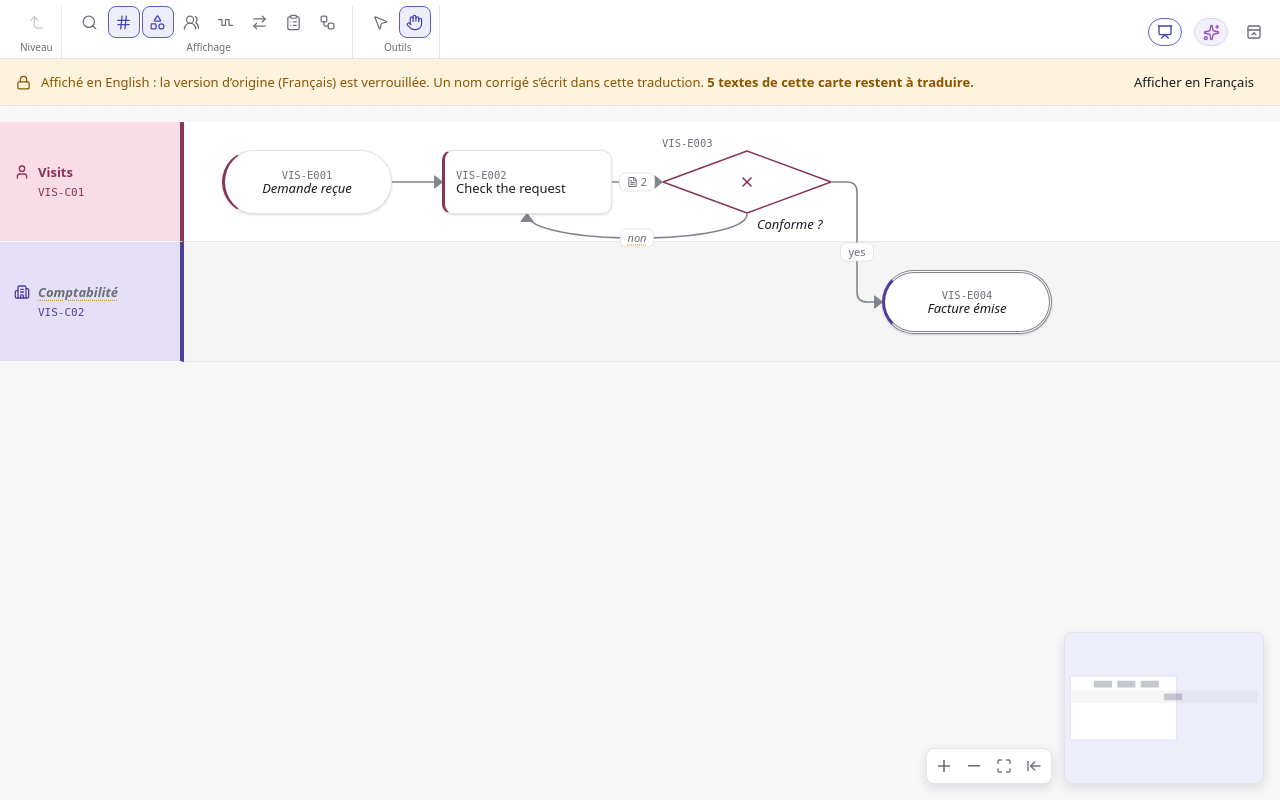
Scenario: the translation of a comment of presentation, the map shown in another language (ADR 099 revised) › says the translation, starts with it, shows the original above and writes it with its own version
Press F5
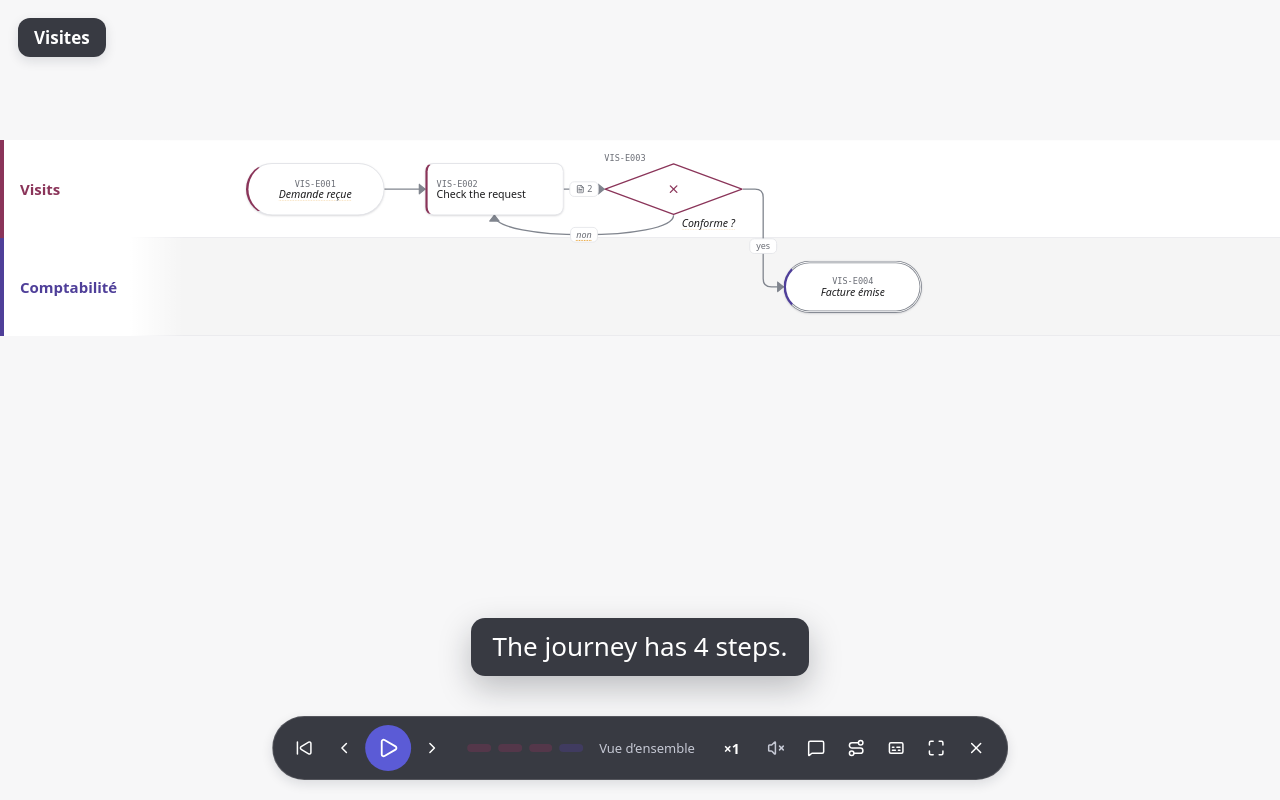
Press ArrowRight
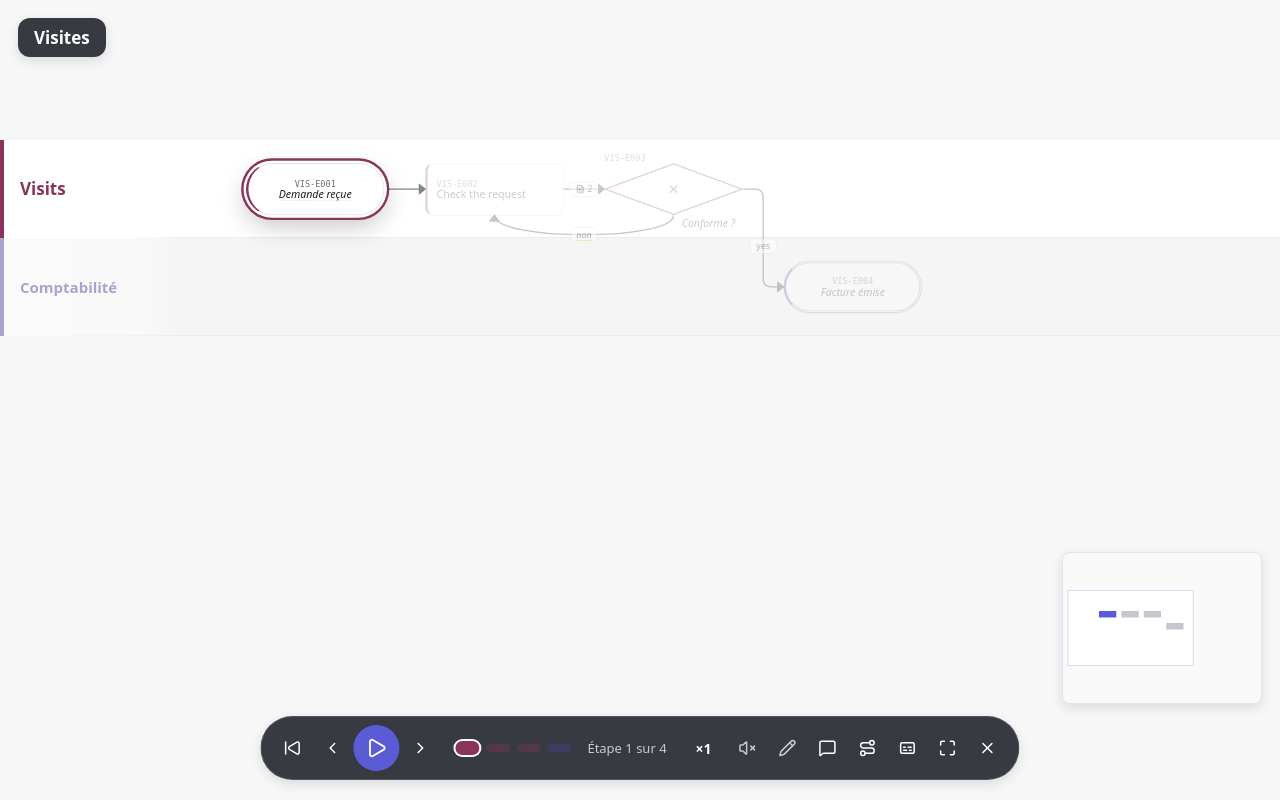
Press ArrowRight
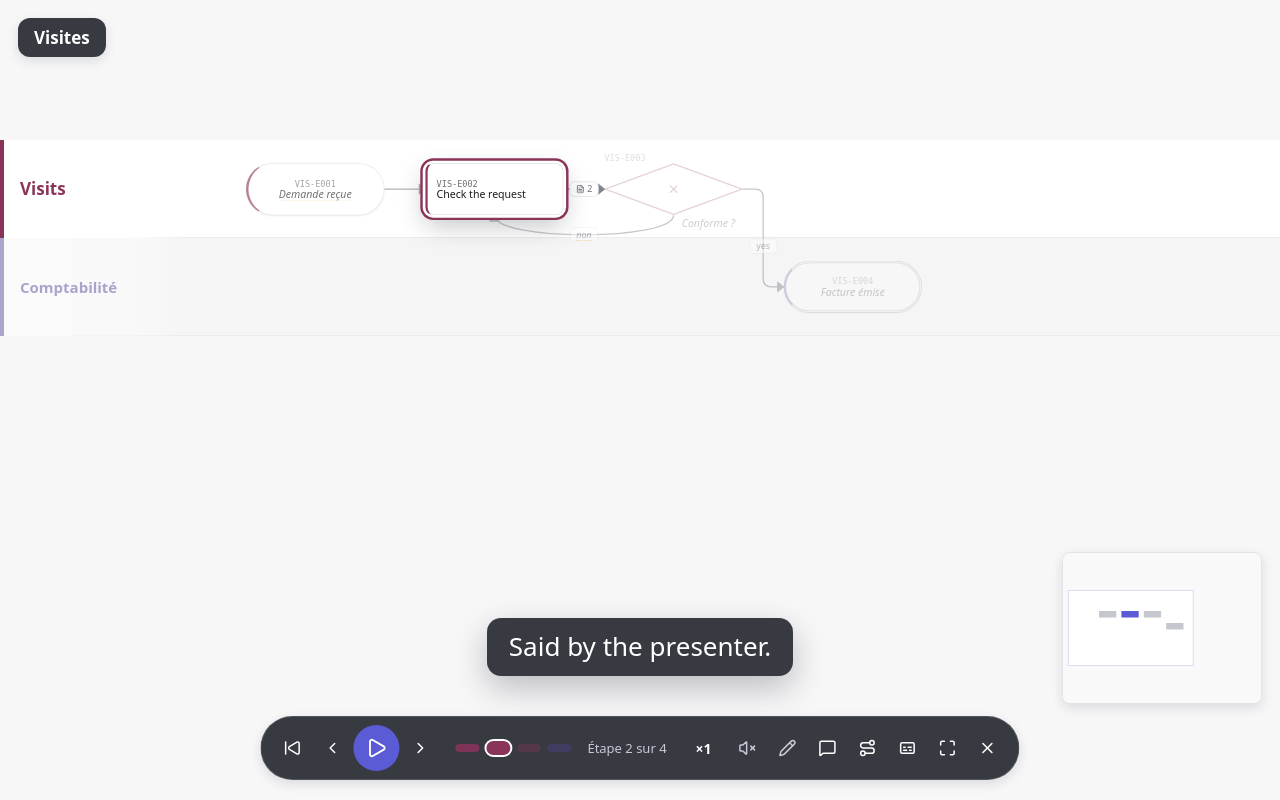
Expected: the text with test id "presenter-line" reads "Said by the presenter.", [509,628,771,664]
Press t
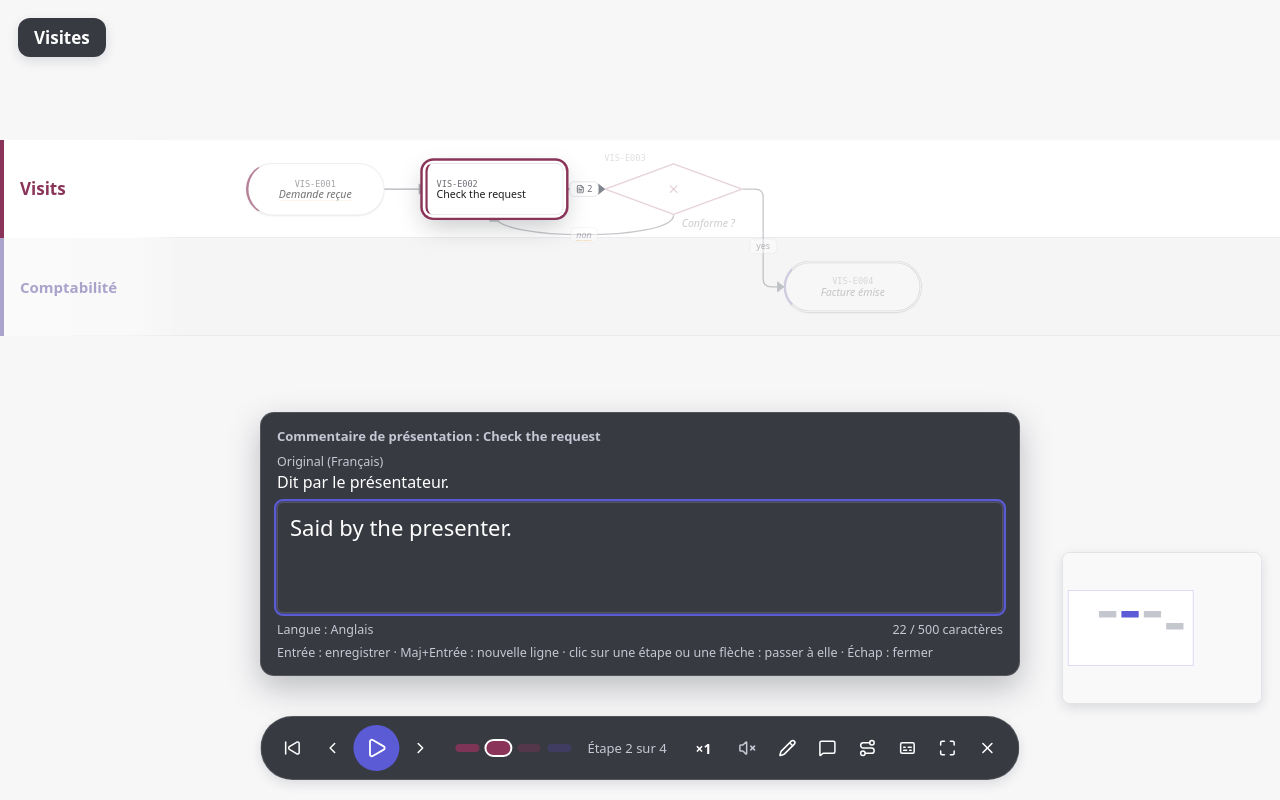
Expected: the text box with test id "presenter-comment-field" holds "Said by the presenter."
Replace the text in the text box with test id "presenter-comment-field" with "Said better by the presenter." at (640, 557), box [277,502,1003,613]
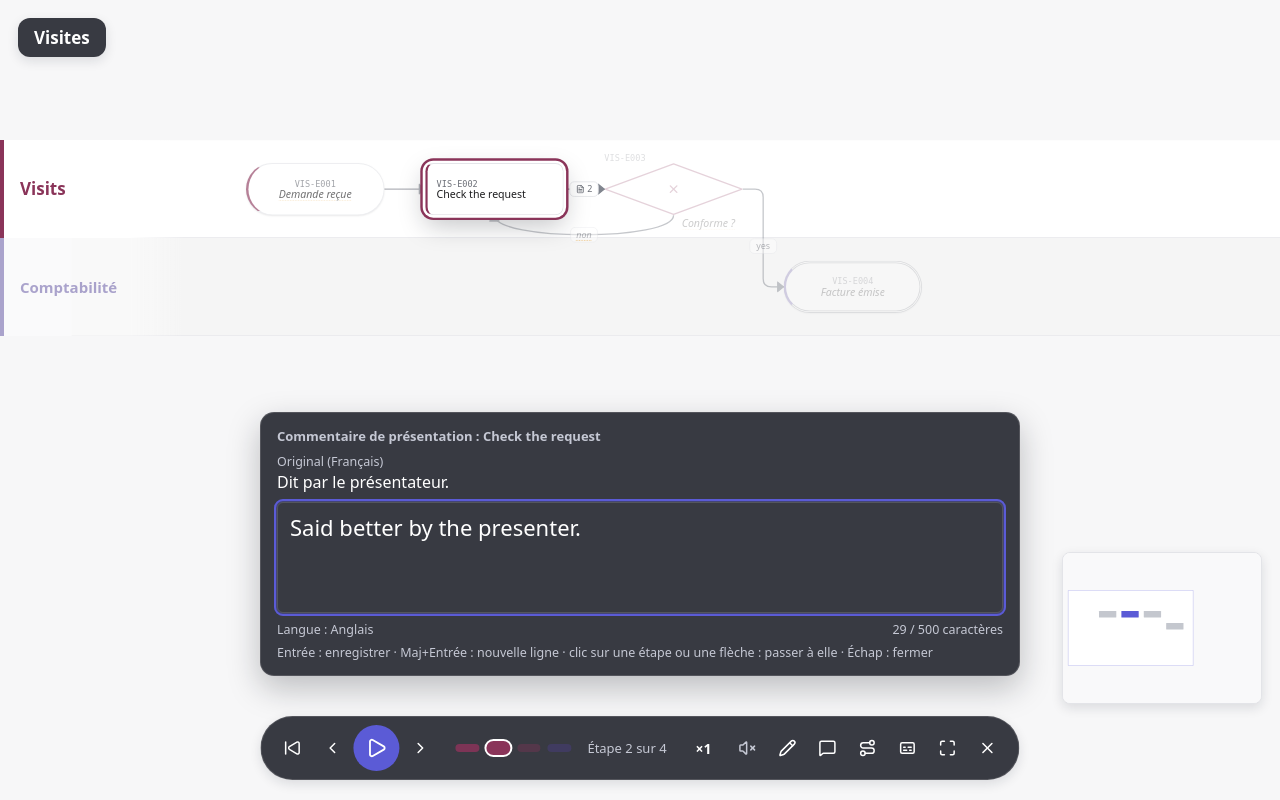
Press Enter in the text box with test id "presenter-comment-field", box [277,502,1003,613]
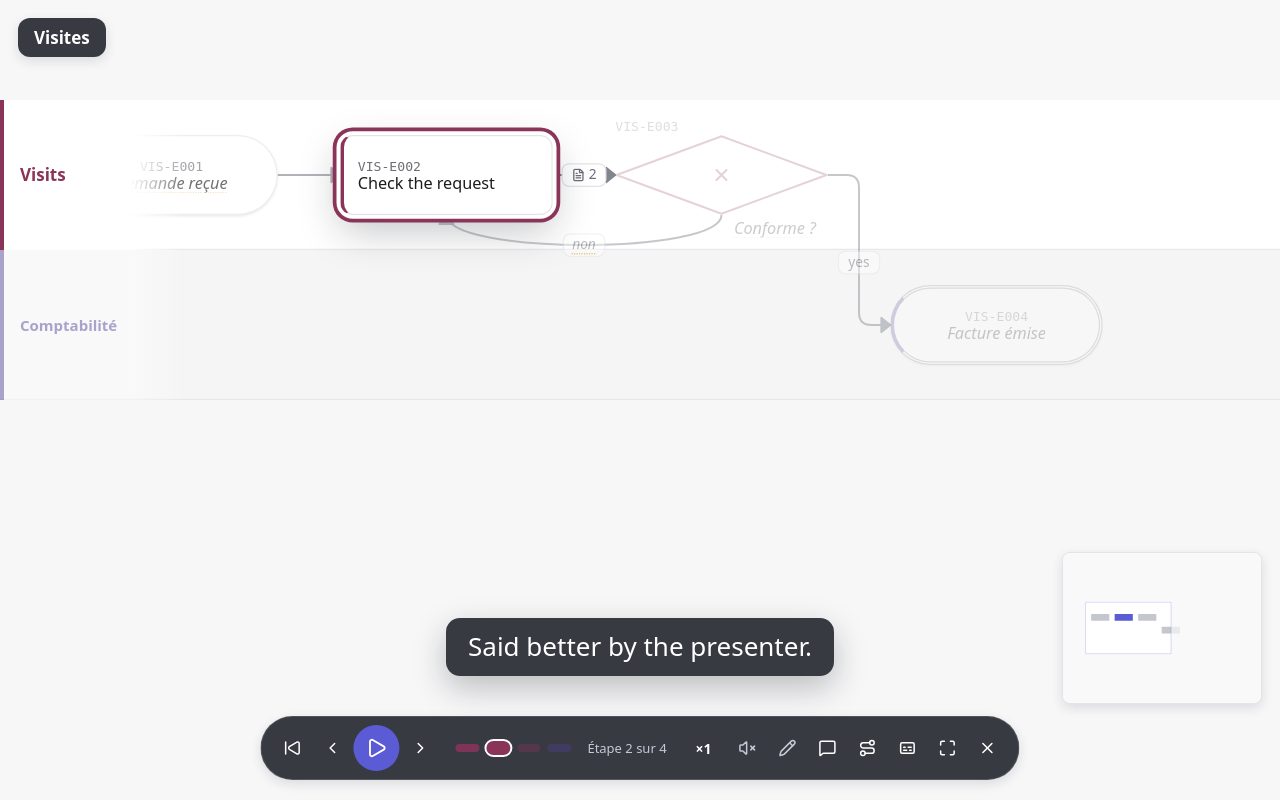
Expected: the element with test id "presenter-comment-editor" is gone
Expected: the text with test id "presenter-line" reads "Said better by the presenter.", [468,628,812,664]
